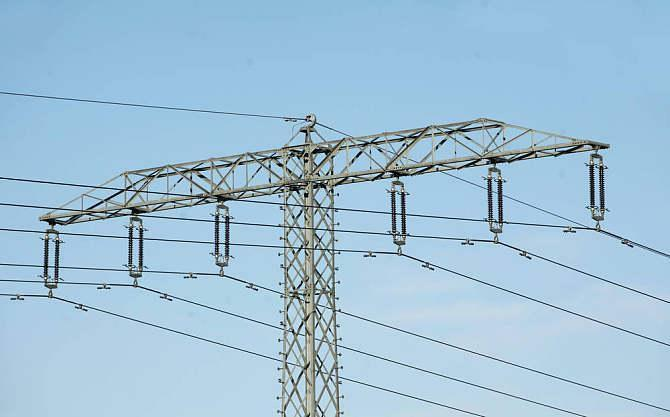power_tower: (52, 109, 614, 417)
